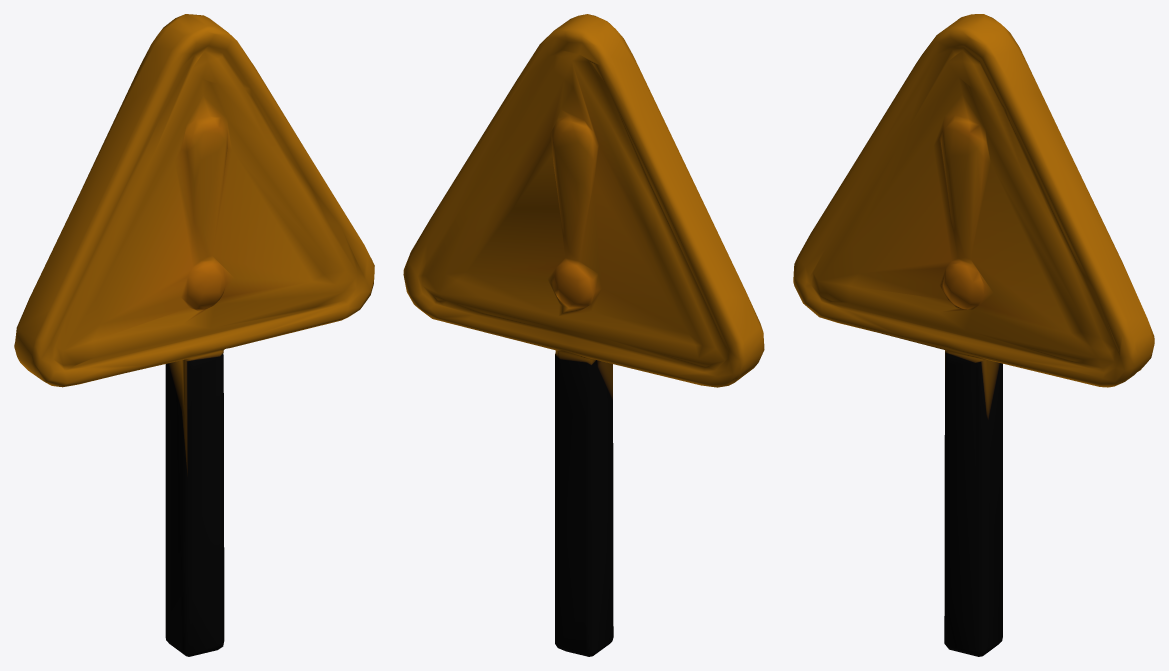
File: gen3d-hazard-sign-lod1.glb
3 renders of one model, left to right at view 1: azimuth 30°, elevation 25°; view 2: azimuth 150°, elevation 25°; view 3: azimuth 330°, elevation 25°, orthographic.
Parts seen in each view (by area): view 1: part_0; view 2: part_0; view 3: part_0.
Boxes of the visible parts, x1,y1,x2,y2 form: part_0: (14, 14, 374, 656); part_0: (403, 14, 764, 656); part_0: (793, 14, 1154, 656).
Bounding box in the file's own units: 0.5723 × 0.9994 × 0.0889.
